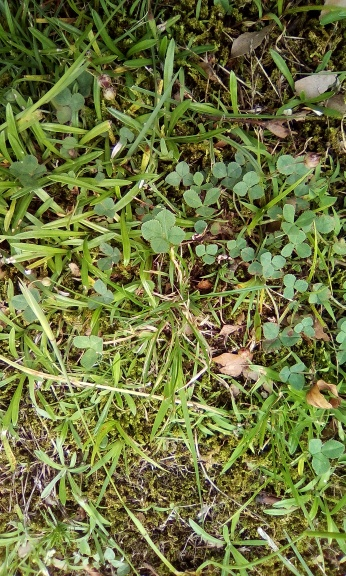4leaf: (141, 210, 186, 254)
